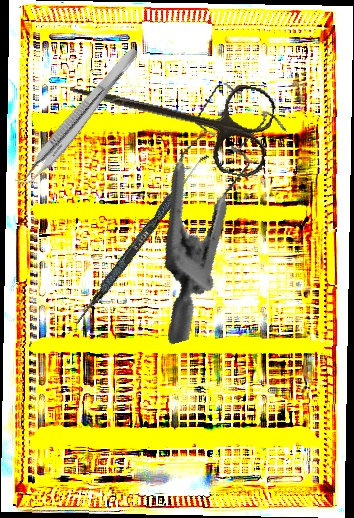Iris Scissors: (59, 49, 279, 181)
Spatula Surgical: (72, 149, 210, 330)
Speculum: (104, 70, 335, 345)
Tissue Forceps: (12, 39, 142, 195)
